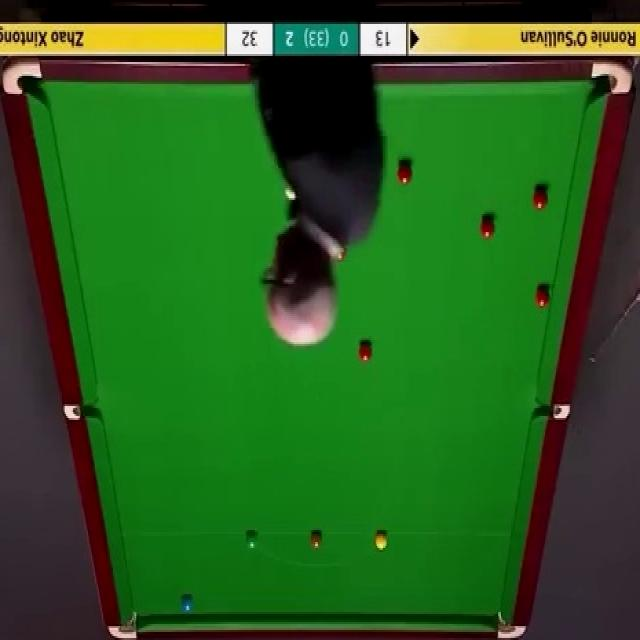blue-ball: (182, 592, 192, 613)
brown-ball: (310, 531, 323, 548)
green-ball: (244, 528, 258, 552)
red-ball: (396, 163, 414, 187), (532, 184, 548, 210), (480, 216, 494, 240), (535, 288, 550, 310), (358, 343, 374, 362)
yellow-ball: (374, 530, 388, 551)
